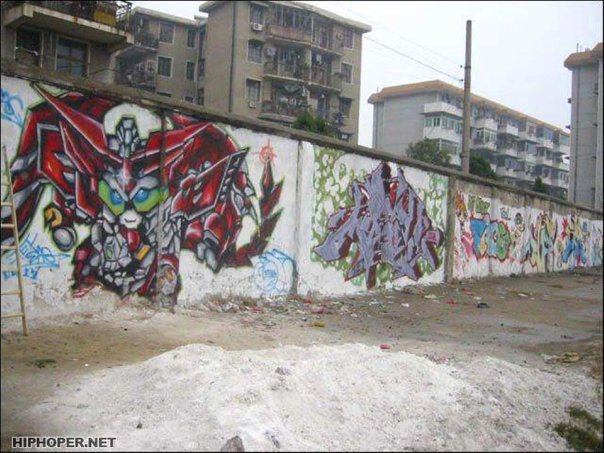graffity: (4, 75, 284, 313), (312, 147, 447, 295), (455, 192, 600, 290), (253, 248, 299, 297)
